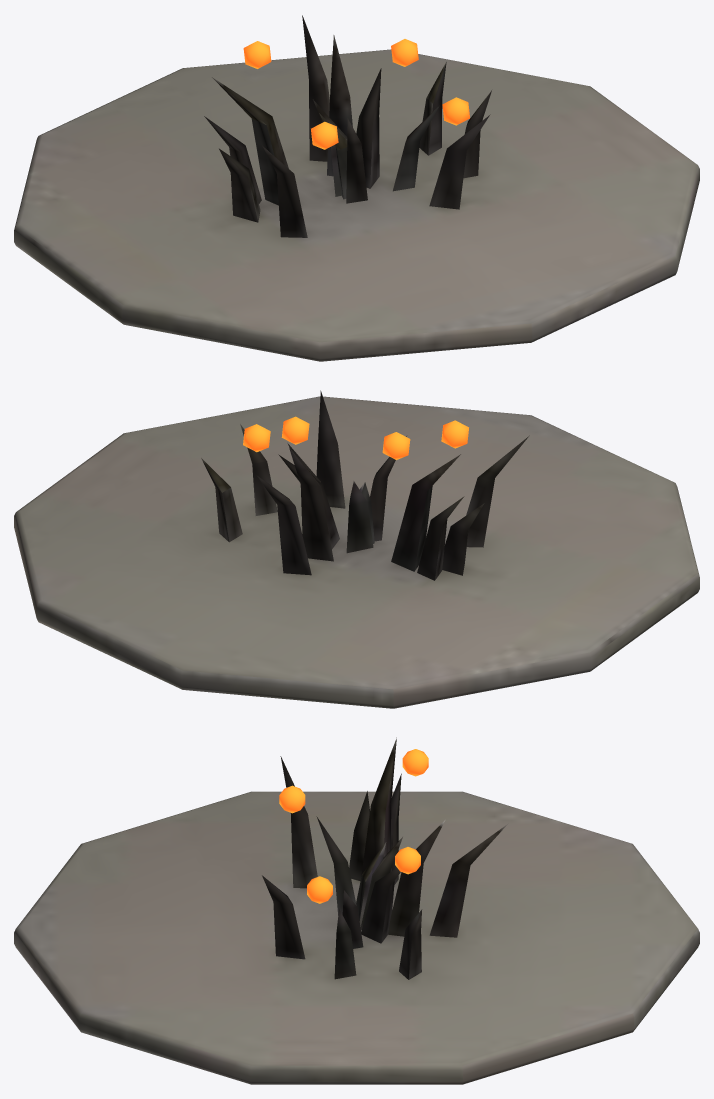
The model's file is grass_burnt.glb.
3 renders of one model, top to bottom at view 1: azimuth 30°, elevation 25°; view 2: azimuth 150°, elevation 25°; view 3: azimuth 270°, elevation 25°, orthographic. The views are drawn at different scales.
Visible parts, largest first — view 1: grass_burnt, grass_burnt_glow; view 2: grass_burnt, grass_burnt_glow; view 3: grass_burnt, grass_burnt_glow.
Part boxes in pixels (x1,y1,x2,y2): grass_burnt: (14,15,699,361); grass_burnt_glow: (243,39,469,149); grass_burnt: (14,390,699,708); grass_burnt_glow: (243,416,468,459); grass_burnt: (14,737,699,1084); grass_burnt_glow: (279,749,428,903).
Bounding box in the file's own units: 0.5326 × 0.1507 × 0.56.
2 materials, 1 textured.
